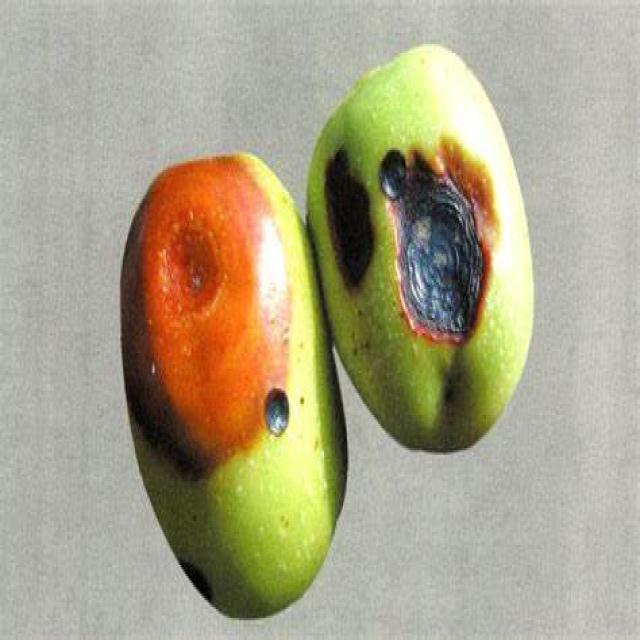Anthracnose: (122, 155, 344, 618), (308, 46, 533, 448)
